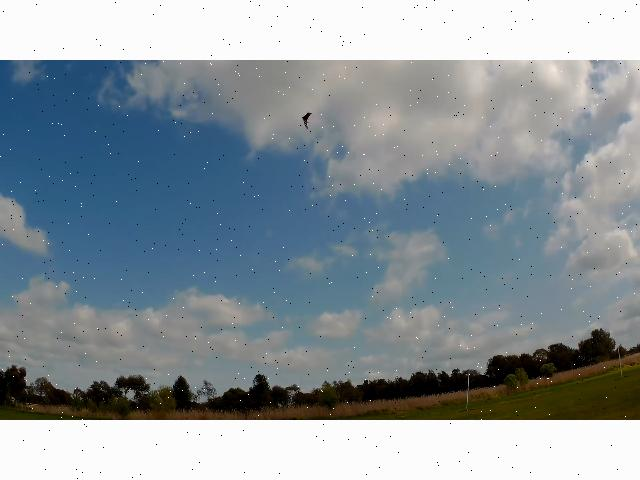Anti-Drone: (290, 103, 324, 136)
